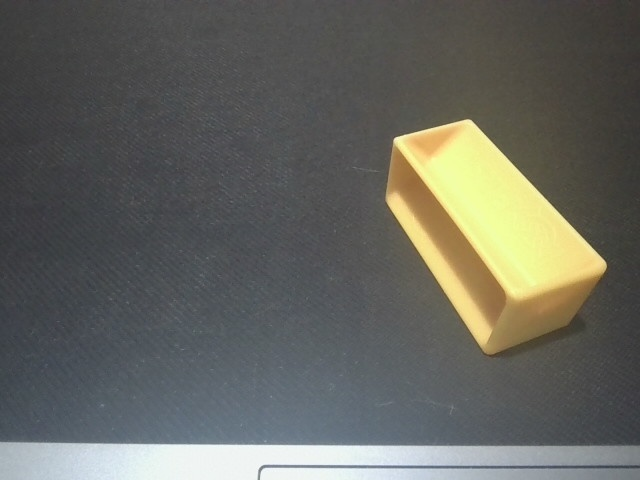YellowSample: (383, 115, 609, 359)
